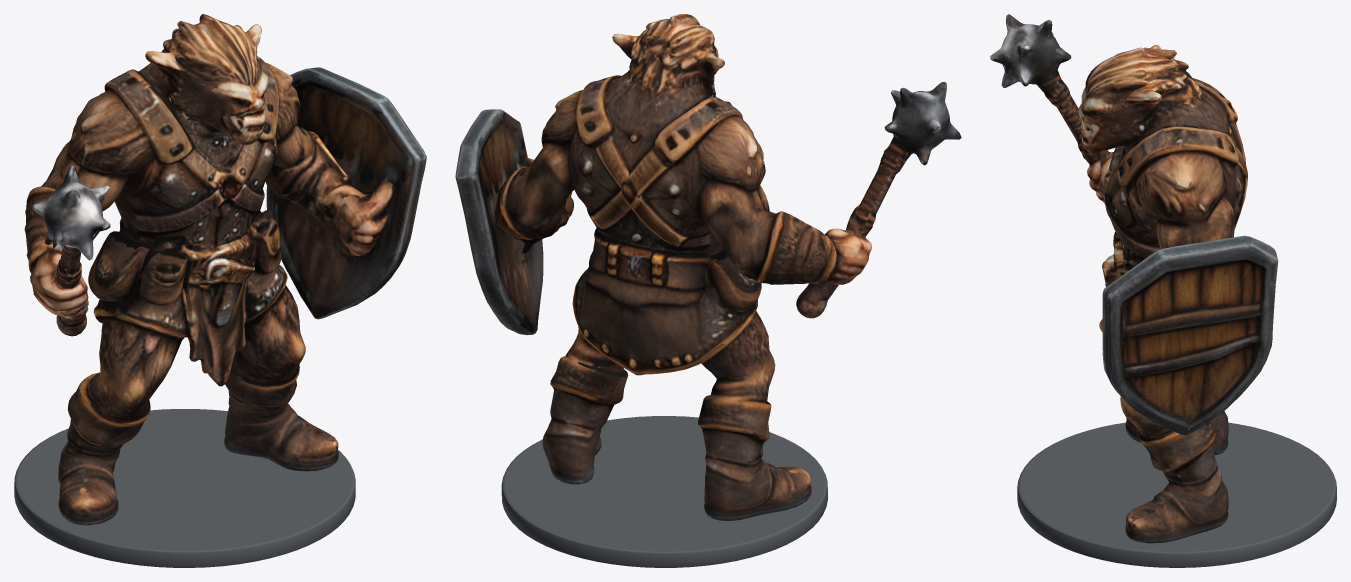
The model's file is bugbear.glb.
The picture shows the model from 3 angles, left to right: view 1: azimuth 30°, elevation 25°; view 2: azimuth 150°, elevation 25°; view 3: azimuth 270°, elevation 25°; orthographic projection. The views are drawn at different scales.
Visible parts, largest first — view 1: bugbear_body, bugbear_round_base; view 2: bugbear_body, bugbear_round_base; view 3: bugbear_body, bugbear_round_base.
Part boxes in pixels (x1=…): bugbear_body: x1=24, y1=14, x2=426, y2=525; bugbear_round_base: x1=14, y1=409, x2=355, y2=567; bugbear_body: x1=455, y1=14, x2=961, y2=520; bugbear_round_base: x1=501, y1=416, x2=827, y2=567; bugbear_body: x1=990, y1=14, x2=1278, y2=543; bugbear_round_base: x1=1017, y1=422, x2=1336, y2=567.
Size of the model in its own units: 1.44 by 1.58 by 1.09.
2 materials, 1 textured.
